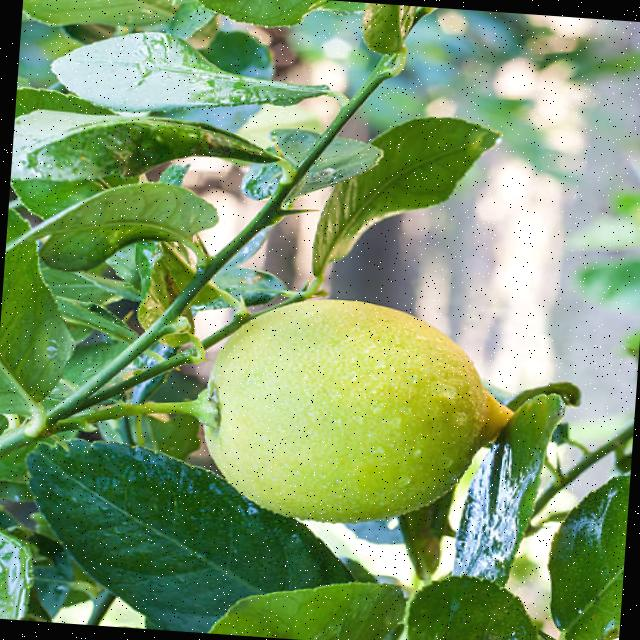Unripe: (190, 290, 519, 535)
